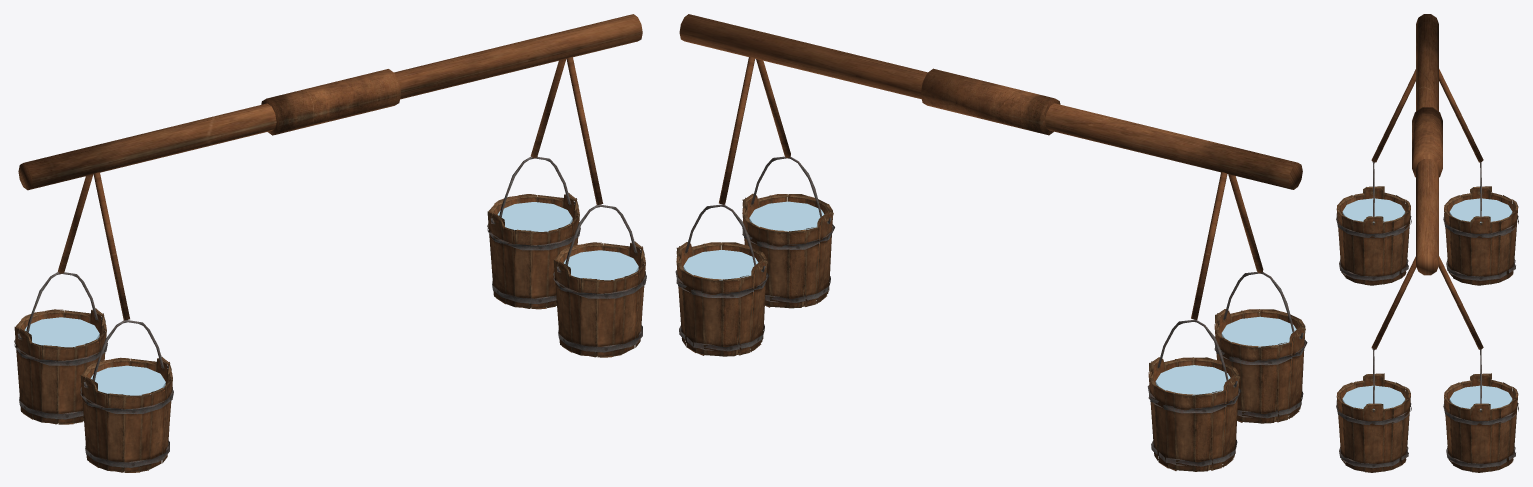
The model's file is yoke.glb.
3 views of the same model, side by side, from view 1: azimuth 30°, elevation 25°; view 2: azimuth 150°, elevation 25°; view 3: azimuth 270°, elevation 25° (orthographic). The views are drawn at different scales.
Parts seen in each view (by area): view 1: Pole, Bucket.002, Bucket, Bucket.001, Bucket.003, Water, Water.001, Water.003, Water.002; view 2: Pole, Bucket.001, Bucket.003, Bucket, Bucket.002, Water.001, Water, Water.002, Water.003; view 3: Pole, Bucket.002, Bucket, Bucket.003, Bucket.001, Water.001, Water, Water.003, Water.002.
Boxes of the visible parts, x1,y1,x2,y2 form: Pole: (18, 14, 642, 320); Bucket.002: (553, 204, 646, 357); Bucket: (80, 320, 173, 472); Bucket.001: (14, 272, 107, 424); Bucket.003: (487, 156, 580, 309); Water: (90, 365, 165, 395); Water.001: (24, 317, 99, 347); Water.003: (497, 202, 572, 231); Water.002: (564, 250, 638, 280); Pole: (679, 14, 1302, 319); Bucket.001: (1147, 319, 1241, 471); Bucket.003: (675, 204, 769, 356); Bucket: (1214, 272, 1307, 423); Bucket.002: (742, 156, 834, 308); Water.001: (1155, 365, 1230, 395); Water: (1221, 316, 1296, 347); Water.002: (749, 201, 824, 231); Water.003: (683, 250, 758, 280); Pole: (1371, 14, 1483, 349); Bucket.002: (1336, 349, 1411, 472); Bucket: (1336, 162, 1411, 285); Bucket.003: (1443, 349, 1518, 472); Bucket.001: (1443, 162, 1518, 285); Water.001: (1449, 198, 1512, 222); Water: (1342, 198, 1405, 222); Water.003: (1449, 385, 1512, 409); Water.002: (1342, 385, 1405, 409).
Size of the model in its own units: 1.6 by 0.7246 by 0.512.
Materials: 2 (1 with a texture image).
